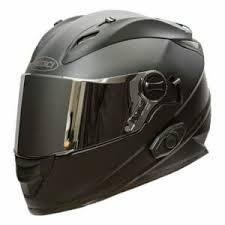helmet: (15, 16, 221, 215), (4, 6, 133, 199)
